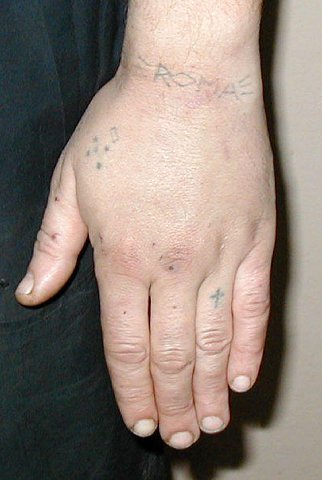tatu9_krest: (205, 284, 233, 311)
